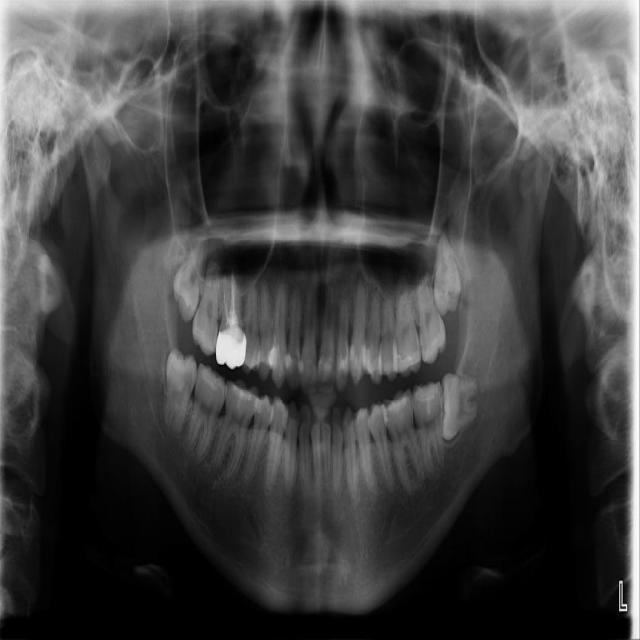Crown: (216, 323, 246, 369)
Filling: (317, 348, 336, 394), (272, 339, 288, 387), (301, 343, 316, 393), (349, 340, 365, 385), (286, 343, 301, 390), (200, 365, 225, 392), (233, 385, 258, 411), (415, 384, 439, 411), (335, 351, 349, 392), (395, 351, 419, 371), (385, 394, 408, 414), (366, 350, 379, 378), (255, 400, 273, 418)
Root Canal Treatment: (232, 272, 236, 316), (224, 277, 228, 316)
impacted tooth: (164, 349, 197, 435), (443, 374, 482, 442), (173, 235, 203, 317), (433, 231, 460, 314)
